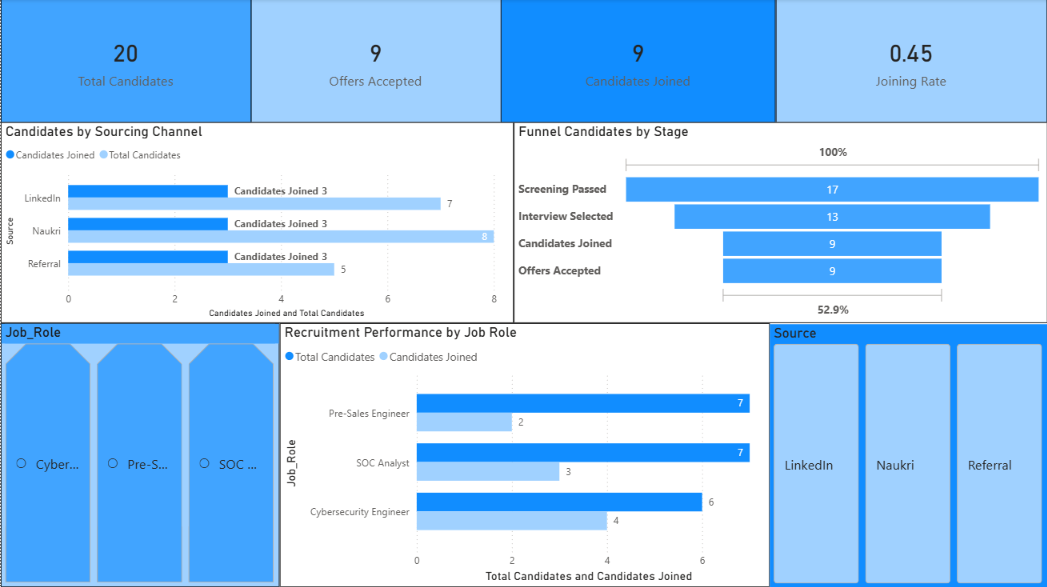

This screenshot's page, from the dashboard's own definition file:
{"tool":"powerbi","page":{"name":"Page 1","canvas":[1280,720],"ordinal":0},"visuals":[{"type":"card","fields":{"Values":["Table1.Candidates Joined"]},"box":[612,0,336.2,150.9],"z":0},{"type":"card","fields":{"Values":["Table1.Offers Accepted"]},"box":[306,0,306,150.9],"z":1},{"type":"card","fields":{"Values":["Table1.Total Candidates"]},"box":[0,0,306,150.9],"z":2},{"type":"card","fields":{"Values":["Table1.Joining Rate"]},"box":[948.2,0,332.1,150.9],"z":3},{"type":"clusteredBarChart","title":"Candidates by Sourcing Channel","fields":{"Category":["Table1.Source"],"Y":["Table1.Candidates Joined","Table1.Total Candidates"]},"box":[0,150.5,627.4,245.6],"z":4},{"type":"funnel","fields":{"Category":["Recruitment_Stages.Stage"],"Y":["Recruitment_Stages.Funnel Candidates"]},"box":[627.1,150.9,653.2,245.6],"z":5},{"type":"clusteredBarChart","title":"Recruitment Performance by Job Role","fields":{"Category":["Table1.Job_Role"],"Y":["Table1.Total Candidates","Table1.Candidates Joined"]},"box":[340.7,396,599,323.6],"z":6},{"type":"advancedSlicerVisual","fields":{"Values":["Table1.Job_Role"]},"box":[0,396,340.7,323.6],"z":7},{"type":"advancedSlicerVisual","fields":{"Values":["Table1.Source"]},"box":[940,397,340,323],"z":8}]}

Visuals, with their boxes in screenshot pixels (x1, y1, x2, y2), scaled from the page's 1280x720 canvas onto the 1047x587 screenshot:
card - Table1.Candidates Joined: bbox=(501, 0, 776, 123)
card - Table1.Offers Accepted: bbox=(250, 0, 501, 123)
card - Table1.Total Candidates: bbox=(0, 0, 250, 123)
card - Table1.Joining Rate: bbox=(776, 0, 1046, 123)
"Candidates by Sourcing Channel" clusteredBarChart: bbox=(0, 123, 513, 323)
funnel - Recruitment_Stages.Stage x Recruitment_Stages.Funnel Candidates: bbox=(513, 123, 1046, 323)
"Recruitment Performance by Job Role" clusteredBarChart: bbox=(279, 323, 769, 586)
advancedSlicerVisual - Table1.Job_Role: bbox=(0, 323, 279, 586)
advancedSlicerVisual - Table1.Source: bbox=(769, 324, 1046, 586)
